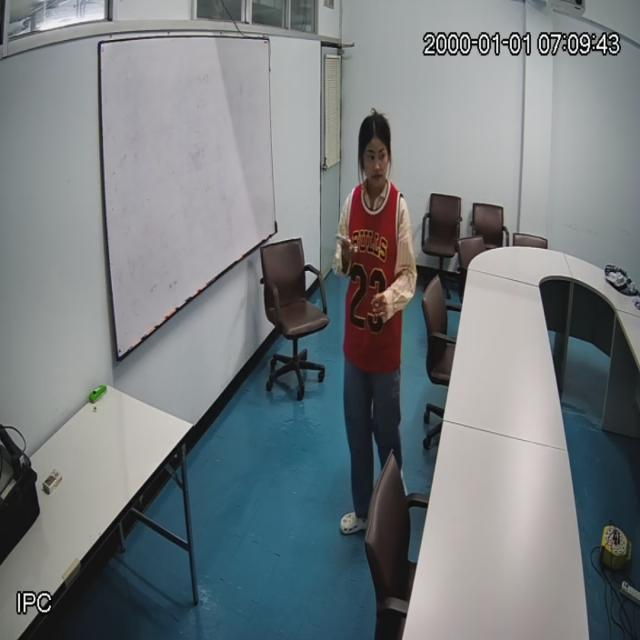normal: (330, 114, 415, 444)
